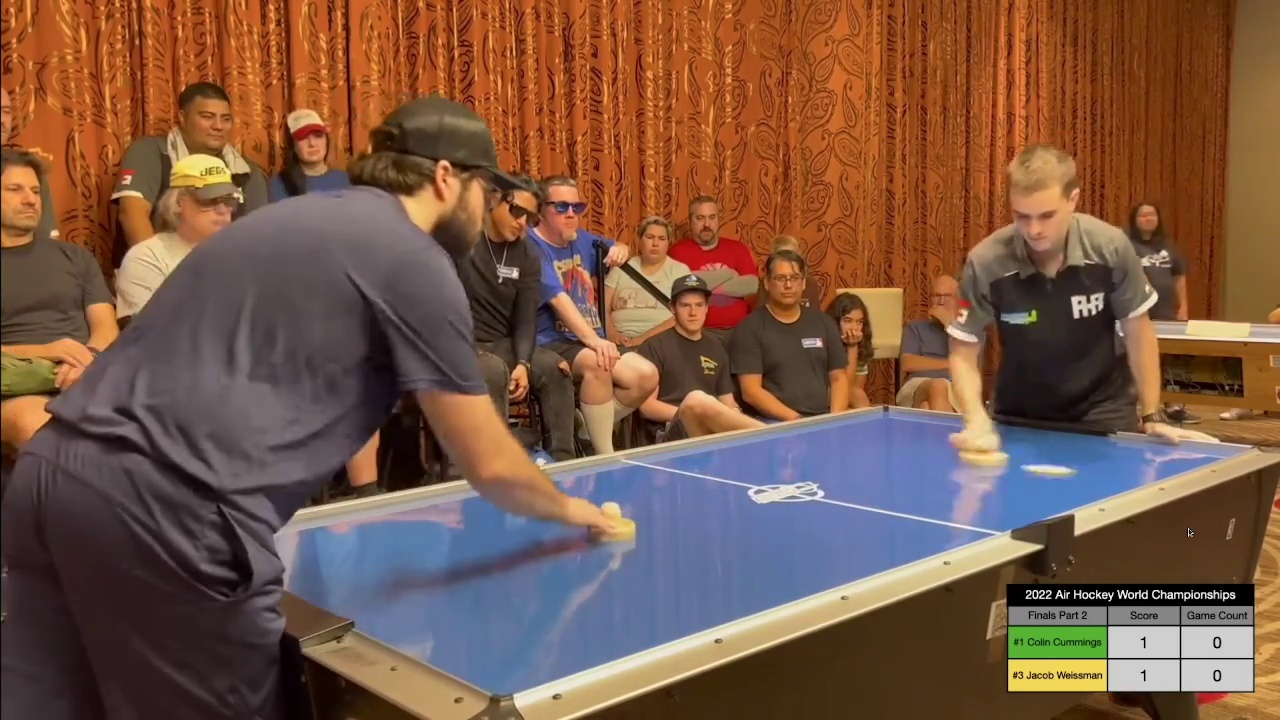player: (585, 500, 635, 541), (957, 428, 1009, 467)
puck: (1023, 461, 1077, 479)
table: (237, 402, 1280, 695)
